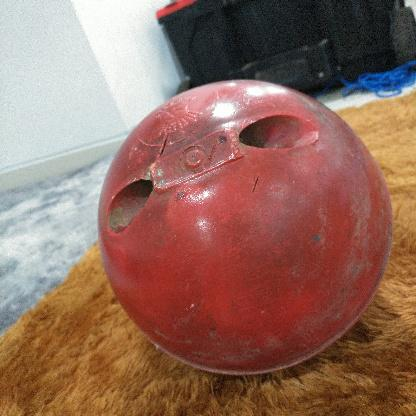red_buoy: (89, 74, 398, 378)
